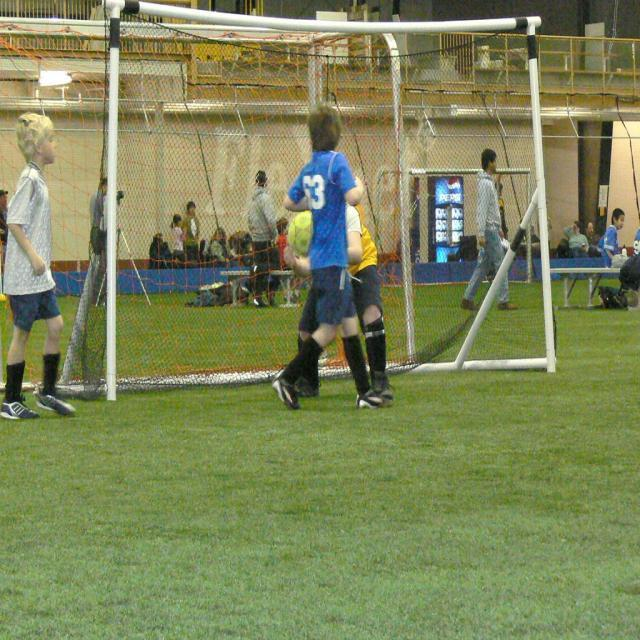football: (289, 217, 321, 256)
